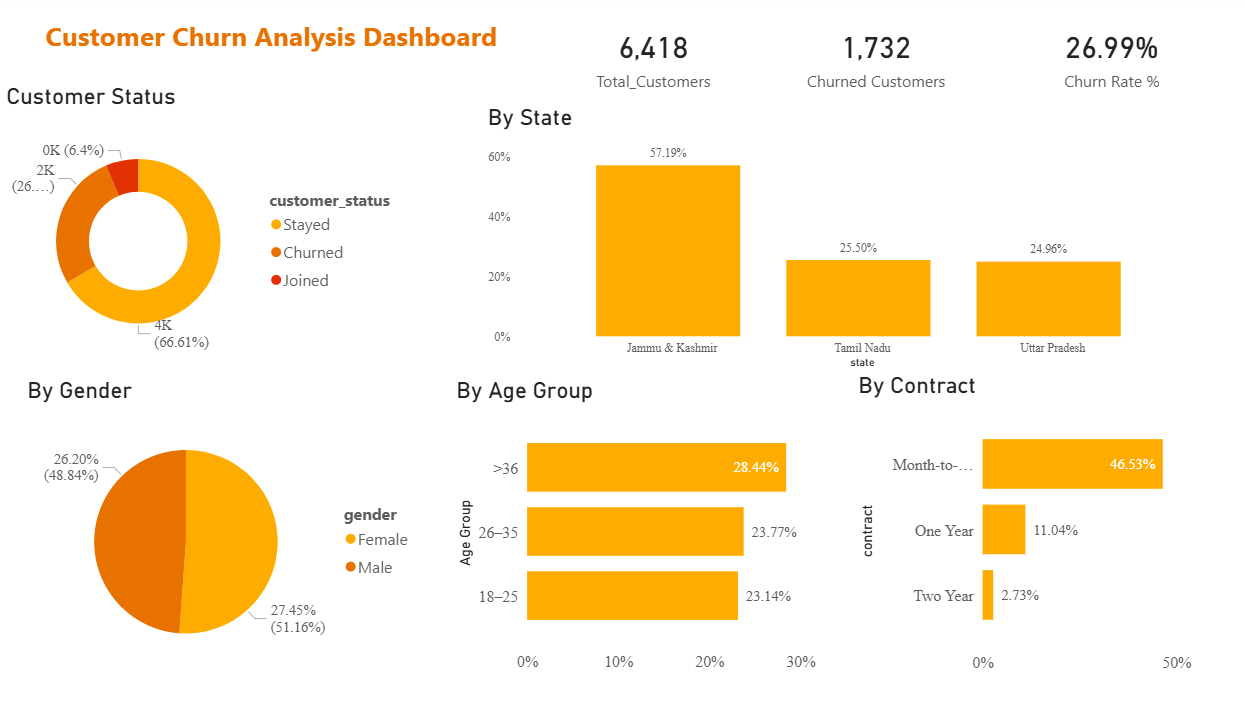

Layout of this report page (visuals, bound fields, positions):
{"tool":"powerbi","page":{"name":"Executive Churn Overview","canvas":[1280,720],"ordinal":0},"visuals":[{"type":"textbox","box":[10,18.3,545,45],"z":0},{"type":"card","fields":{"Values":["Table.Total_Customers"]},"box":[555,18.3,225,88.3],"z":1000},{"type":"card","fields":{"Values":["Table.Churned Customers"]},"box":[780,18.3,226.7,88.3],"z":2000},{"type":"card","fields":{"Values":["Table.Churn Rate %"]},"box":[1006.7,18.3,248.3,88.3],"z":3000},{"type":"pieChart","title":"By Gender","fields":{"Category":["vw_churn_analysis.gender"],"Y":["Table.Churn Rate %"]},"box":[31.7,386.7,403.3,305],"z":4000},{"type":"donutChart","title":" Customer Status","fields":{"Category":["vw_churn_analysis.customer_status"],"Y":["Table.Total_Customers"]},"box":[10,90,403.3,291.7],"z":5000},{"type":"barChart","title":"By Age Group","fields":{"Category":["vw_churn_analysis.Age Group"],"Y":["Table.Churn Rate %"]},"box":[465,386.7,405,305],"z":6000},{"type":"columnChart","title":" By State","fields":{"Category":["vw_churn_analysis.state"],"Y":["Table.Churn Rate %"]},"box":[496.7,110,733.3,271.7],"z":7000},{"type":"barChart","title":"By Contract","fields":{"Category":["vw_churn_analysis.contract"],"Y":["Table.Churn Rate %"]},"box":[870,381.7,385,310],"z":8000}]}

Visuals, with their boxes in screenshot pixels (x1, y1, x2, y2), scaled from the page's 1280x720 canvas onto the 1245x702 screenshot:
textbox: x1=10, y1=18, x2=540, y2=62
card - Table.Total_Customers: x1=540, y1=18, x2=759, y2=104
card - Table.Churned Customers: x1=759, y1=18, x2=979, y2=104
card - Table.Churn Rate %: x1=979, y1=18, x2=1221, y2=104
"By Gender" pieChart: x1=31, y1=377, x2=423, y2=674
" Customer Status" donutChart: x1=10, y1=88, x2=402, y2=372
"By Age Group" barChart: x1=452, y1=377, x2=846, y2=674
" By State" columnChart: x1=483, y1=107, x2=1196, y2=372
"By Contract" barChart: x1=846, y1=372, x2=1221, y2=674
